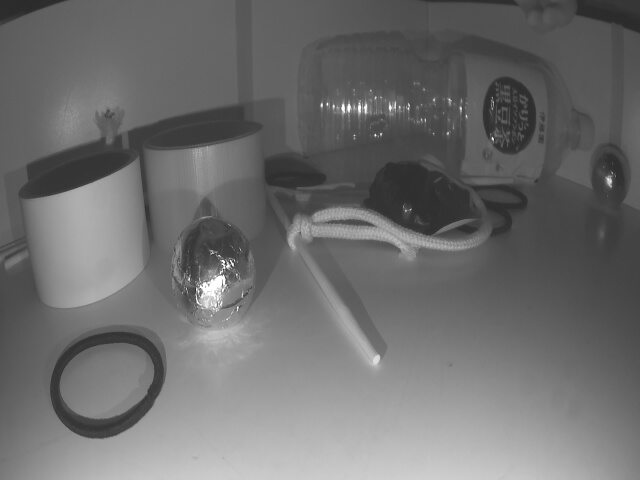Live: (168, 218, 259, 331), (592, 141, 629, 206)
